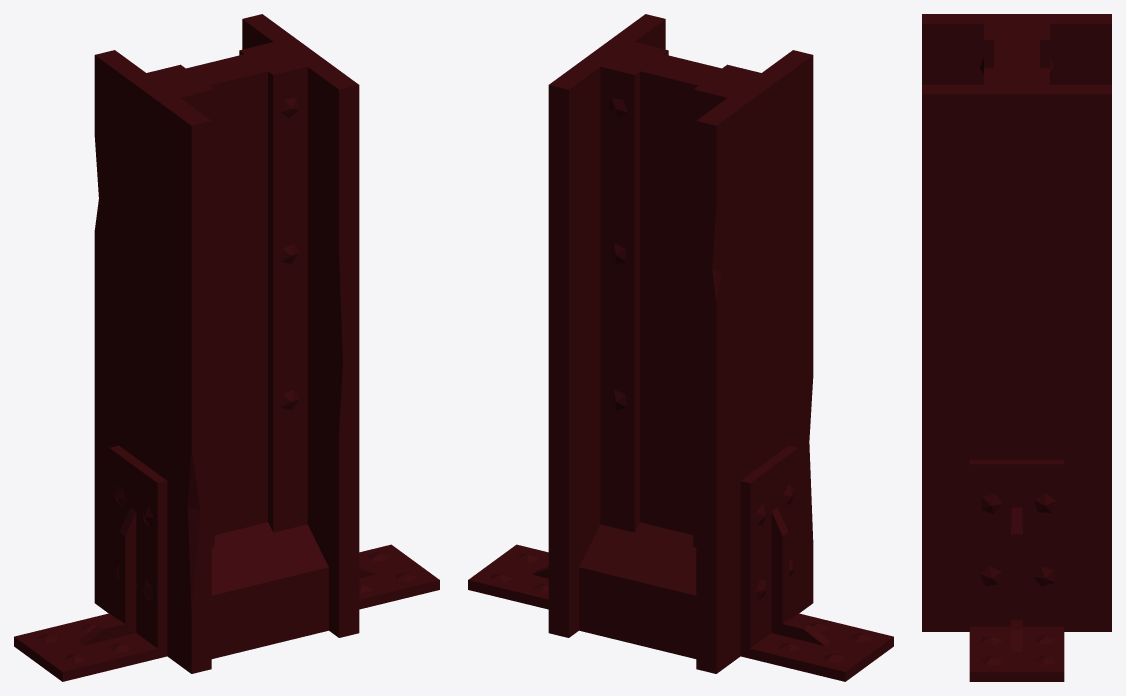
The model's file is SW_ENV_PillarGirderTrackBase_Drk.fbx.
3 renders of one model, left to right at view 1: azimuth 30°, elevation 25°; view 2: azimuth 150°, elevation 25°; view 3: azimuth 270°, elevation 25°, orthographic.
Parts seen in each view (by area): view 1: SW_ENV_PillarGirderTrackBase_Drk; view 2: SW_ENV_PillarGirderTrackBase_Drk; view 3: SW_ENV_PillarGirderTrackBase_Drk.
Boxes of the visible parts, box(x1,y1,x2,y2) form: SW_ENV_PillarGirderTrackBase_Drk: box(14, 14, 439, 681); SW_ENV_PillarGirderTrackBase_Drk: box(468, 14, 893, 681); SW_ENV_PillarGirderTrackBase_Drk: box(922, 14, 1111, 681).
Bounding box in the file's own units: 90 × 125 × 40.
